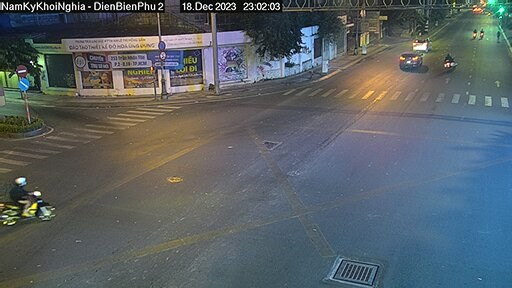car: (396, 50, 425, 68), (413, 34, 435, 53)
motorbike: (1, 175, 56, 227), (445, 53, 456, 71)
